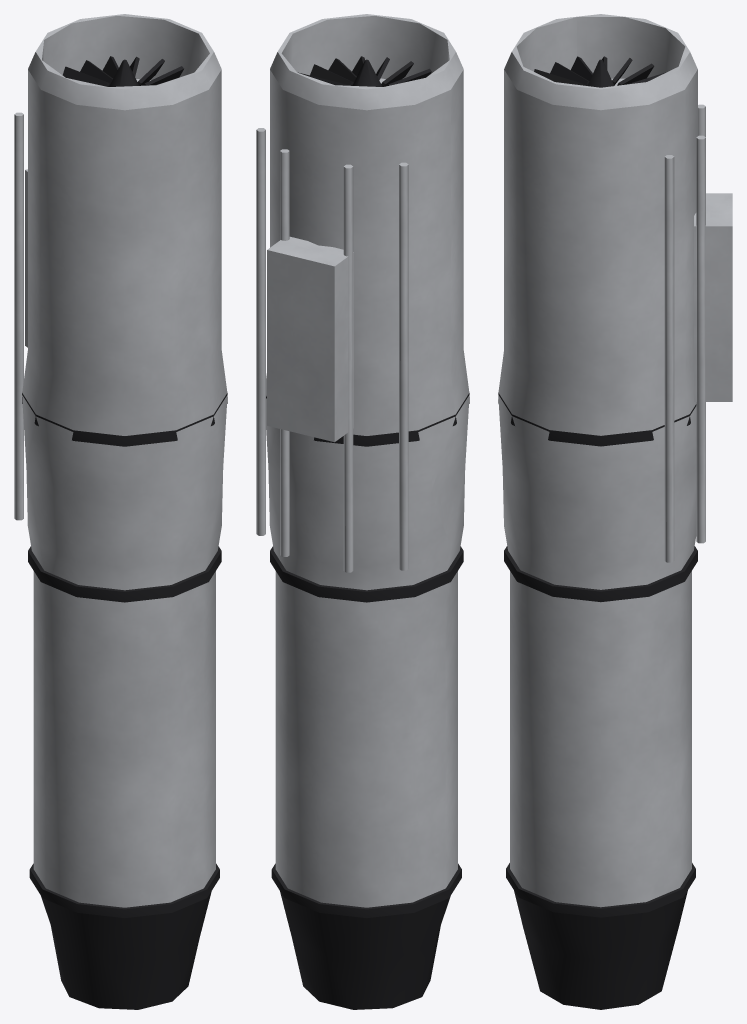
File: jet00_turbojet.glb
3 renders of one model, left to right at view 1: azimuth 30°, elevation 25°; view 2: azimuth 150°, elevation 25°; view 3: azimuth 270°, elevation 25°, orthographic.
Visible parts, largest first — view 1: casing, nozzle, flanges, plumbing, spinner_vanes; view 2: casing, plumbing, nozzle, flanges, spinner_vanes; view 3: casing, plumbing, nozzle, flanges, spinner_vanes.
Boxes of the visible parts, <box> form: casing: <box>22,14,227,907</box>; nozzle: <box>41,891,211,1009</box>; flanges: <box>22,393,227,918</box>; plumbing: <box>14,112,27,520</box>; spinner_vanes: <box>62,56,183,86</box>; casing: <box>266,14,469,907</box>; plumbing: <box>256,128,408,572</box>; nozzle: <box>280,891,450,1009</box>; flanges: <box>266,393,469,918</box>; spinner_vanes: <box>298,56,431,86</box>; casing: <box>498,14,697,907</box>; plumbing: <box>664,104,732,562</box>; nozzle: <box>514,890,687,1009</box>; flanges: <box>498,393,697,917</box>; spinner_vanes: <box>534,56,666,87</box>.
Size of the model in its own units: 1.06 by 5.3 by 1.21.
Materials: 3 (2 with a texture image).
